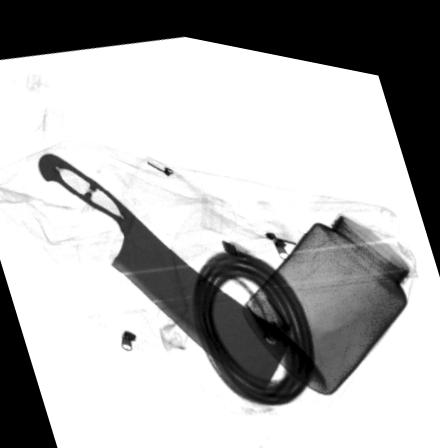Knife: (37, 151, 292, 386)
